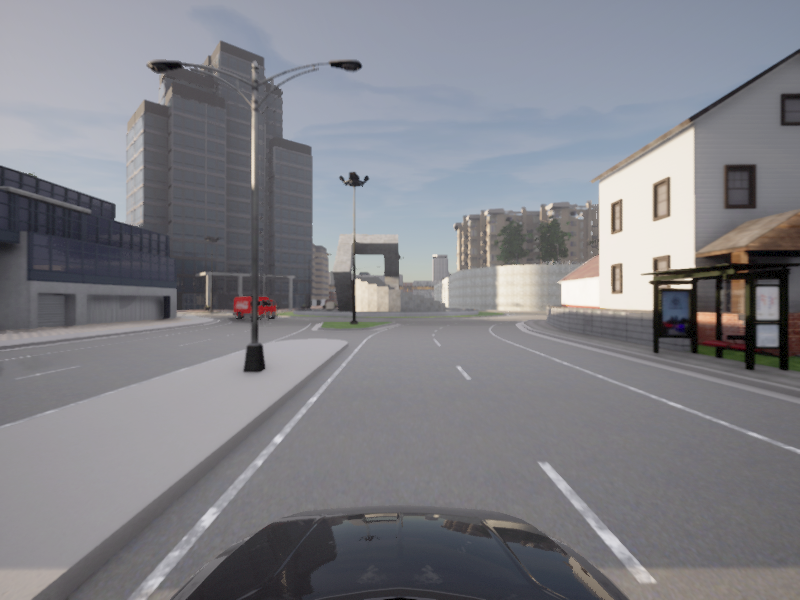vehicle: (231, 295, 281, 321)
